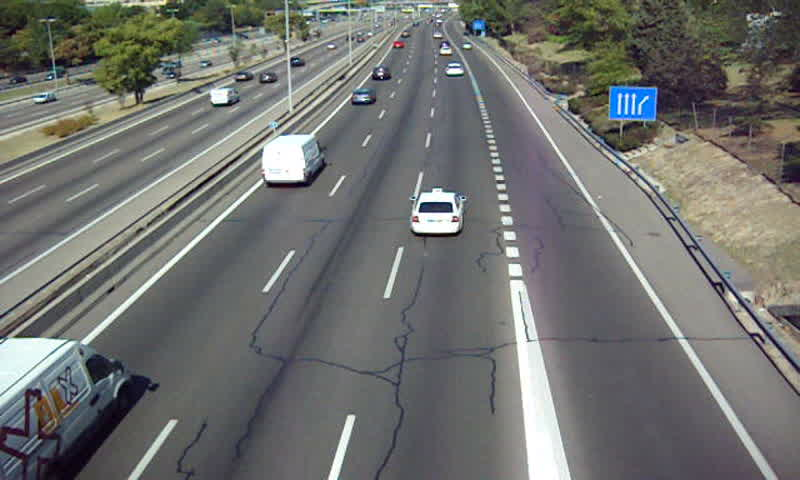car: (411, 191, 462, 235), (349, 89, 374, 108), (373, 65, 392, 82), (444, 62, 465, 77)
van: (1, 336, 128, 480), (262, 135, 324, 184)
